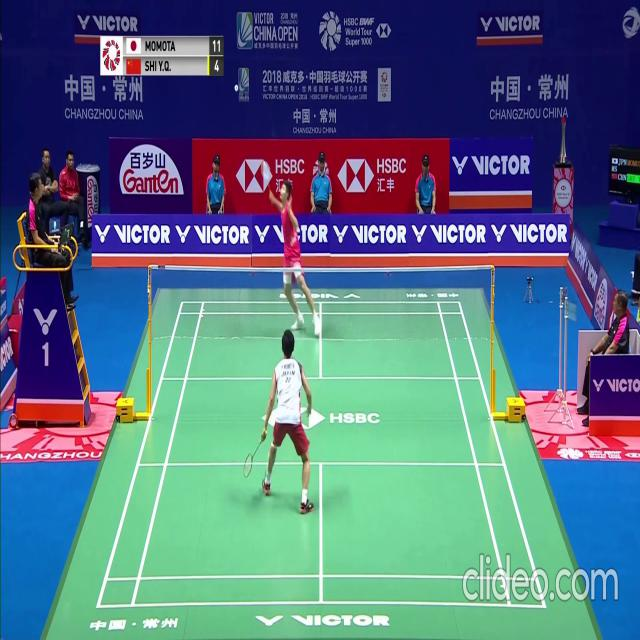Shuttlecock: (234, 86, 238, 93)
